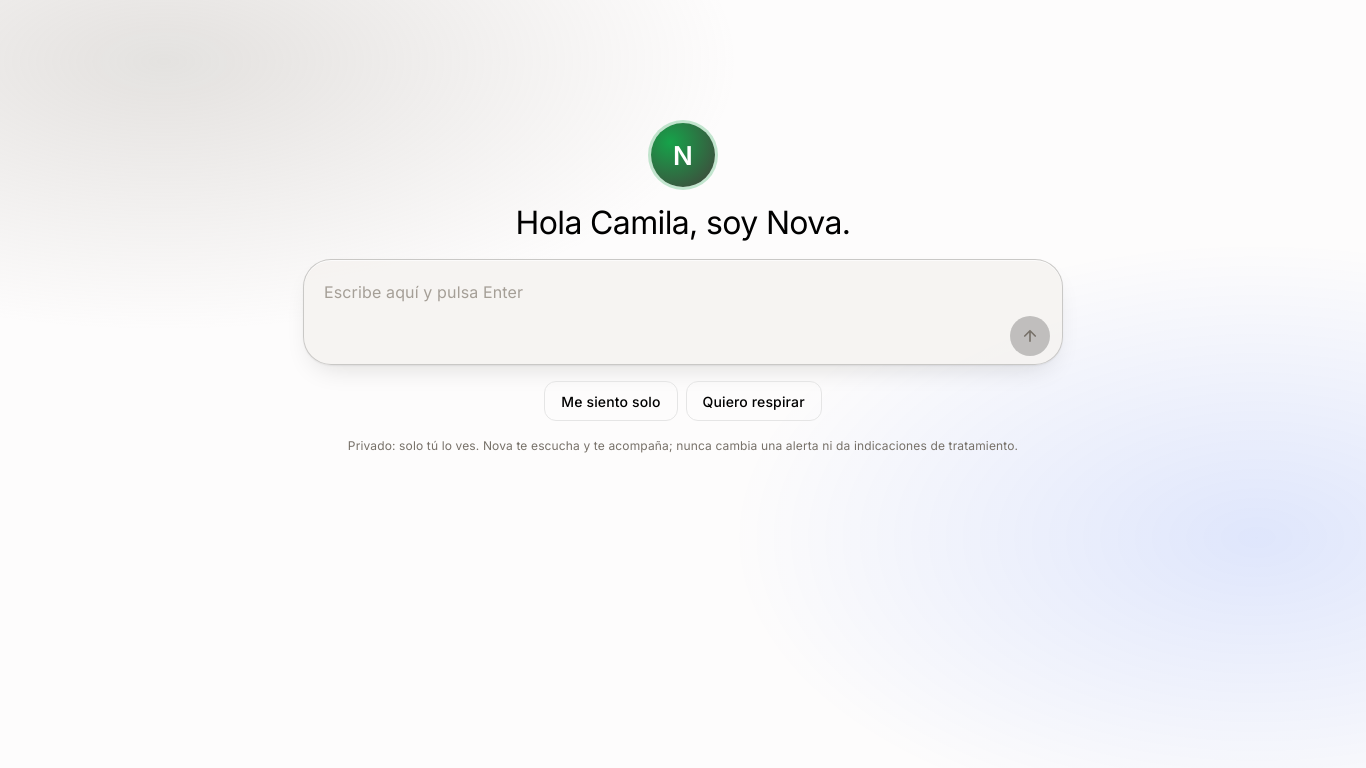
Scenario: Nova, la compañía de apoyo › la guía de respiración (texto escrito) no se marca como IA
The image size is (1366, 768).
Click the button "Quiero respirar". click: (754, 401)
box: x1=686 y1=381 x2=822 y2=421
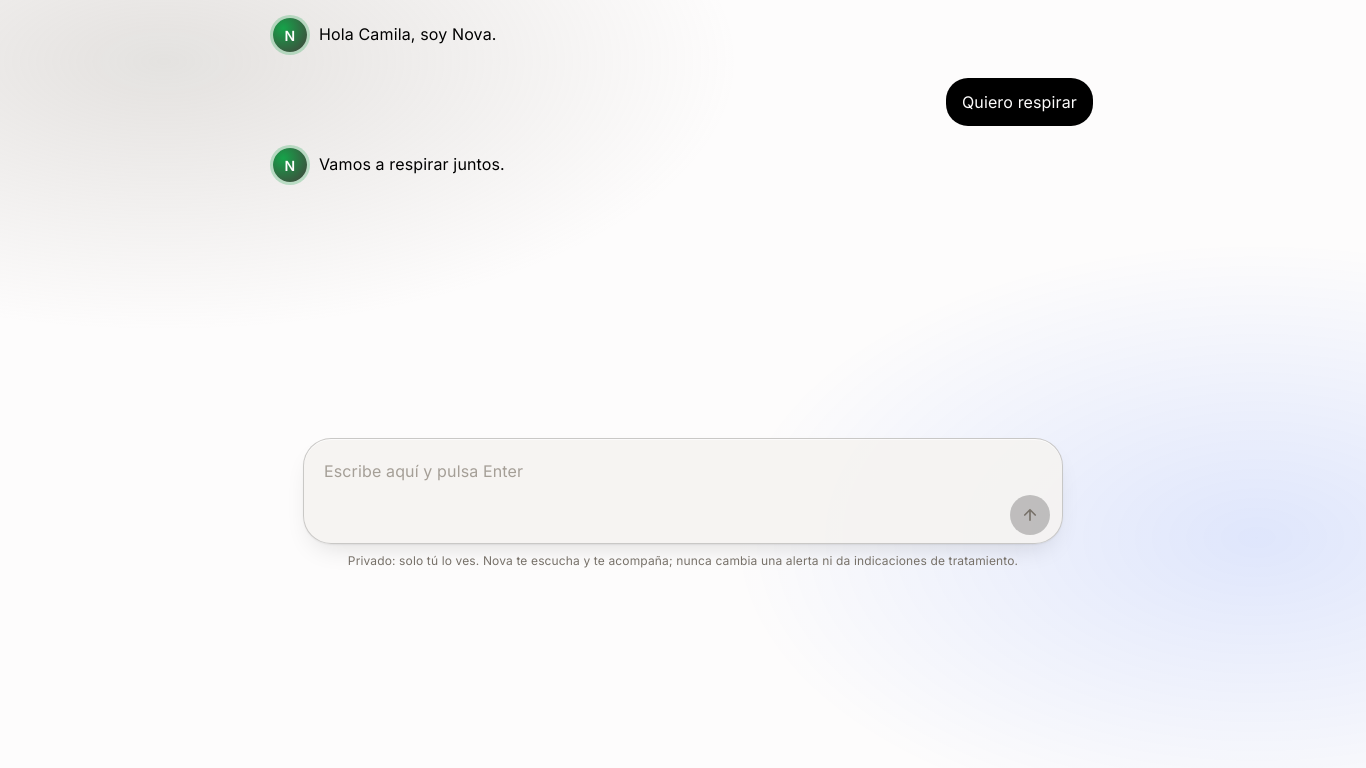
Expected: the text "Vamos a respirar juntos." is shown, x1=319 y1=154 x2=505 y2=174
